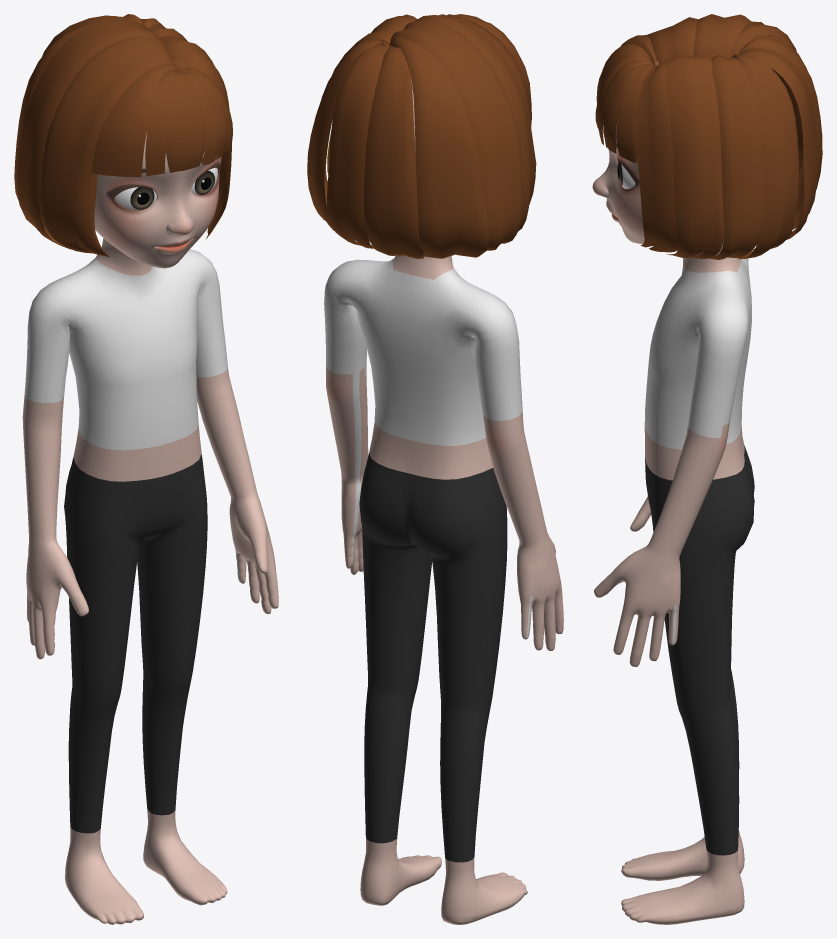
The picture shows the model from 3 angles, left to right: view 1: azimuth 30°, elevation 25°; view 2: azimuth 150°, elevation 25°; view 3: azimuth 270°, elevation 25°; orthographic projection. The views are drawn at different scales.
Parts seen in each view (by area): view 1: hair_OBJ; view 2: hair_OBJ; view 3: hair_OBJ.
Part boxes in pixels (x1=…): hair_OBJ: x1=14, y1=14, x2=278, y2=924; hair_OBJ: x1=307, y1=14, x2=563, y2=924; hair_OBJ: x1=592, y1=14, x2=822, y2=924.
Size of the model in its own units: 29.4 by 111 by 26.6.
